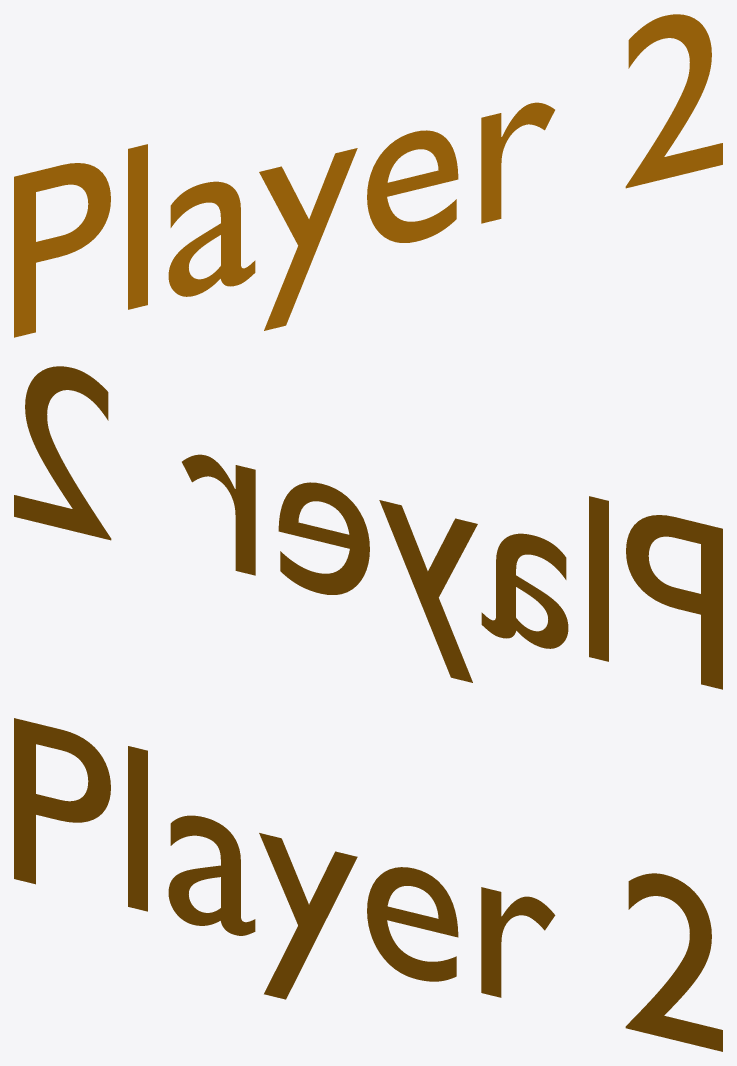
The picture shows the model from 3 angles, top to bottom: view 1: azimuth 30°, elevation 25°; view 2: azimuth 150°, elevation 25°; view 3: azimuth 330°, elevation 25°; orthographic projection.
Parts seen in each view (by area): view 1: Text; view 2: Text; view 3: Text.
Part boxes in pixels (x1,y1,x2,y2): Text: [14, 14, 722, 337]; Text: [14, 366, 722, 689]; Text: [14, 718, 722, 1051].
Size of the model in its own units: 3.14 by 0.921 by 0.
